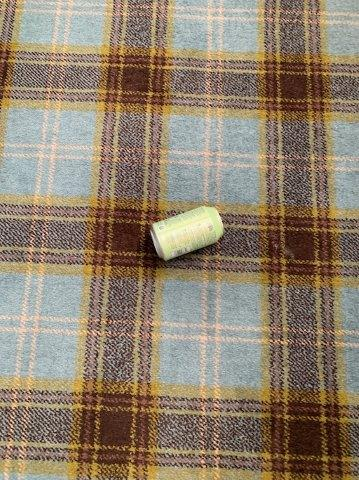kaleng: (149, 206, 223, 260)
